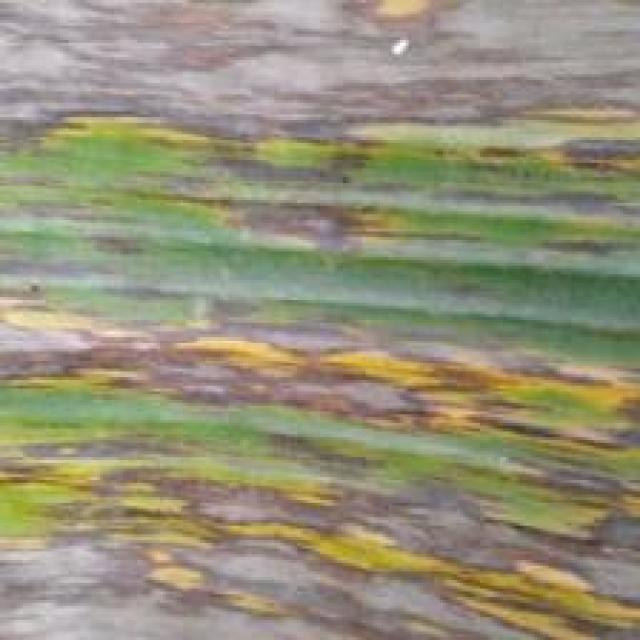Early_leaf_spot: (0, 0, 640, 640), (0, 255, 640, 482), (0, 408, 634, 631), (0, 0, 637, 205), (165, 167, 432, 259)
